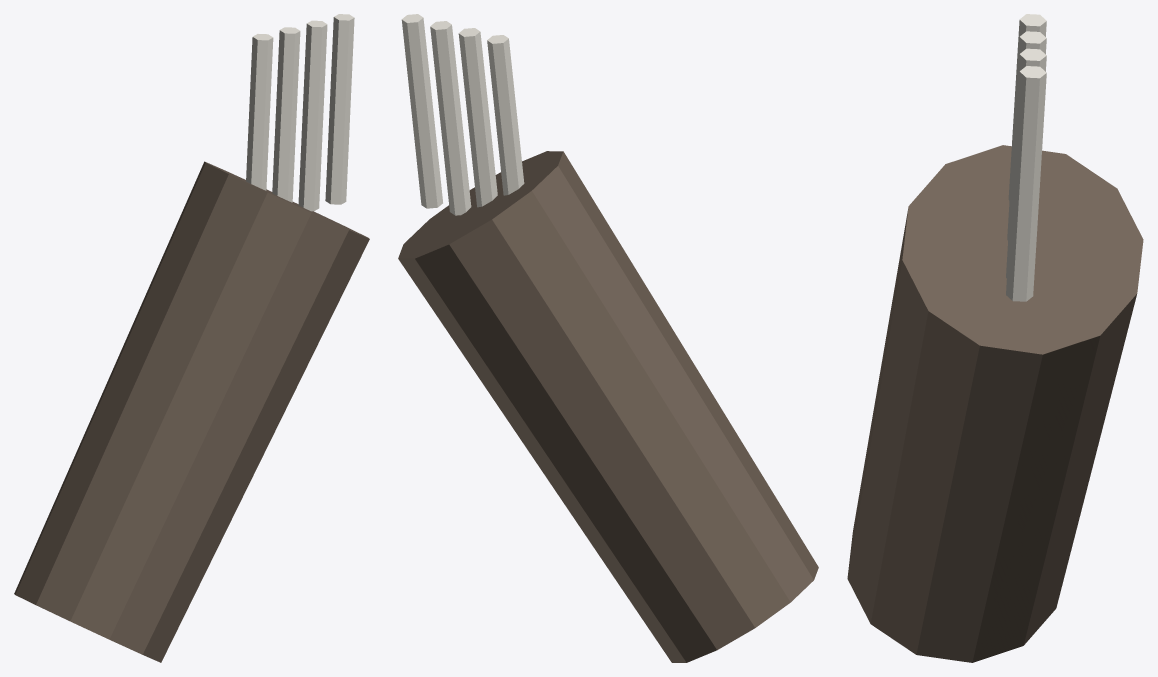
File: Quiver.fbx
The picture shows the model from 3 angles, left to right: view 1: azimuth 30°, elevation 25°; view 2: azimuth 150°, elevation 25°; view 3: azimuth 270°, elevation 25°; orthographic projection. The views are drawn at different scales.
Visible parts, largest first — view 1: Quiver; view 2: Quiver; view 3: Quiver.
Boxes of the visible parts, x1,y1,x2,y2 form: Quiver: [14, 14, 369, 662]; Quiver: [398, 14, 818, 662]; Quiver: [847, 14, 1143, 662].
Size of the model in its own units: 15.64 by 23.84 by 8.67.
